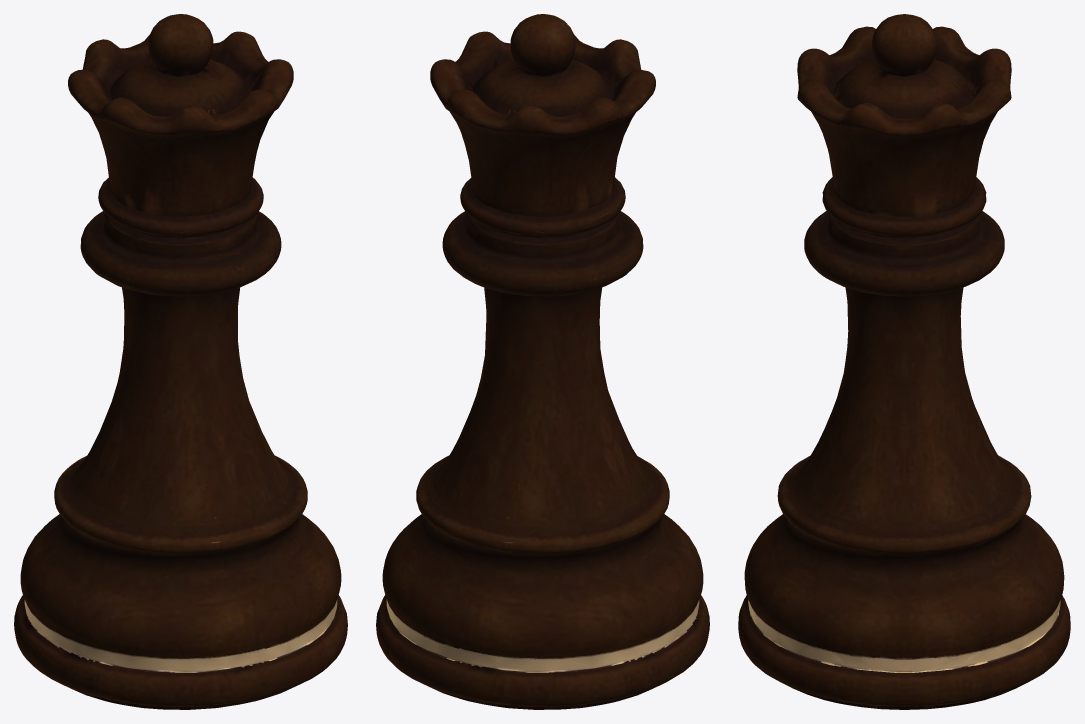
Rendered from queen_dark.glb.
3 views of the same model, side by side, from view 1: azimuth 30°, elevation 25°; view 2: azimuth 150°, elevation 25°; view 3: azimuth 270°, elevation 25° (orthographic).
Parts seen in each view (by area): view 1: geometry_0; view 2: geometry_0; view 3: geometry_0.
Boxes of the visible parts, x1,y1,x2,y2 form: geometry_0: (14,14,347,709); geometry_0: (376,14,709,709); geometry_0: (738,14,1070,709).
Size of the model in its own units: 0.6221 by 1.3 by 0.6217.
1 material, 1 textured.
